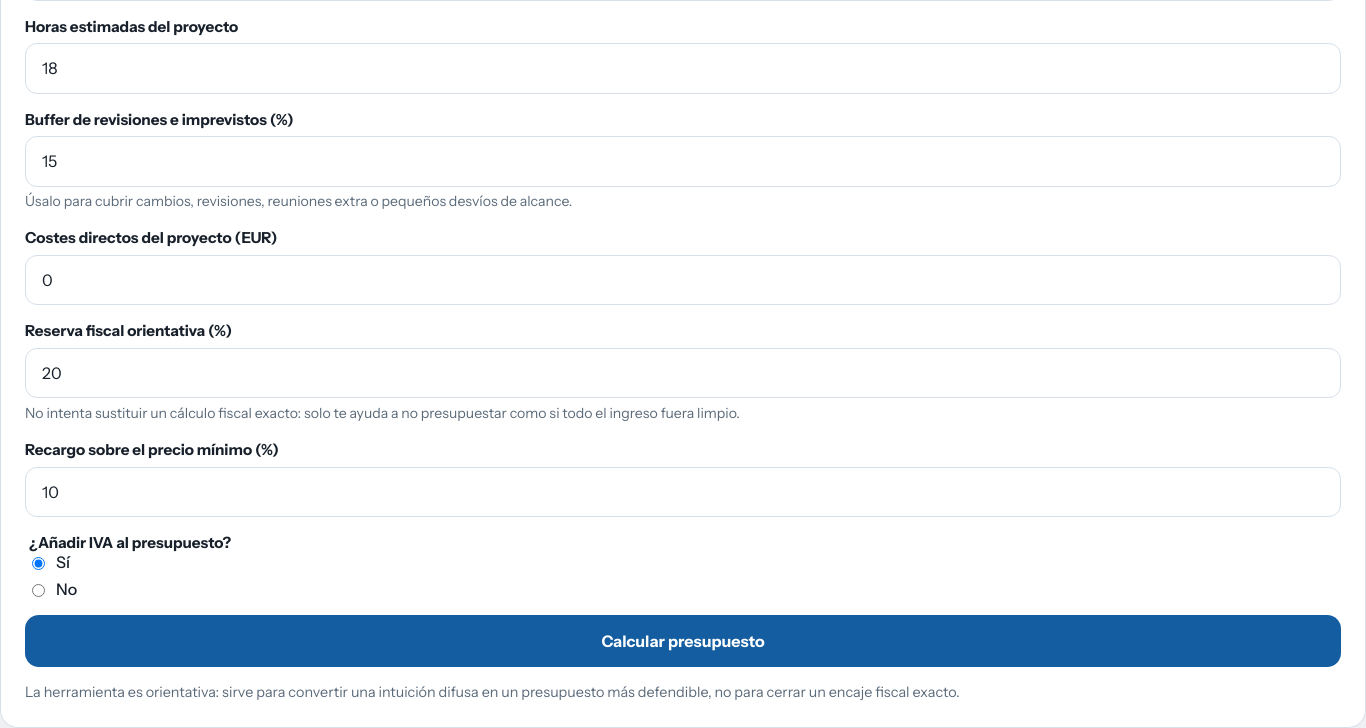
it: CalculatorForm › rejects a tax reserve above the supported limit
(page scrolled)
Replace the text in the number field labelled "Reserva fiscal orientativa" with "100" at (683, 373), box [25,348,1341,398]
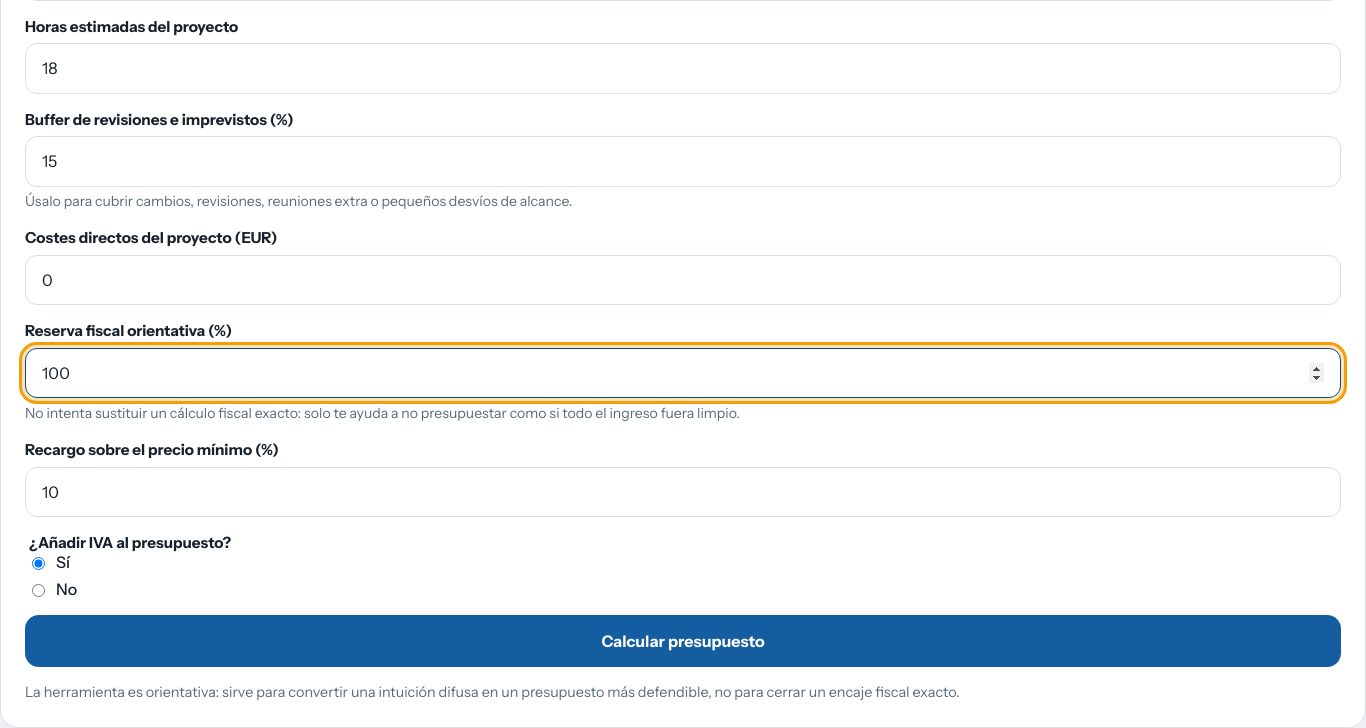
Click the button "Calcular presupuesto" at (683, 642), box [25,616,1341,668]
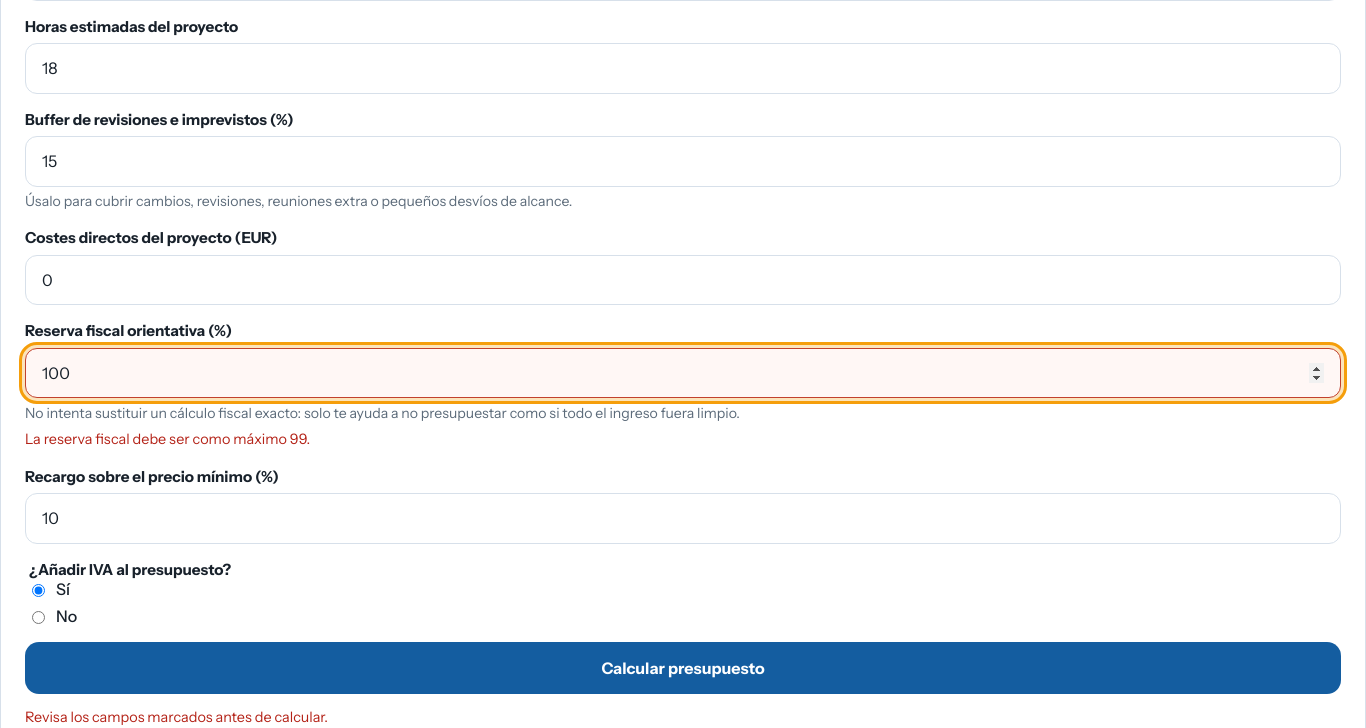
Expected: the text "La reserva fiscal debe ser como máximo 99." is shown, [25,430,310,448]
